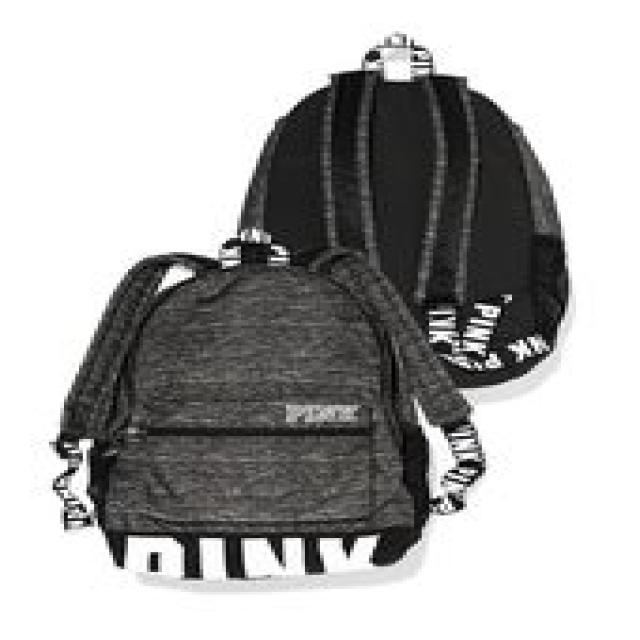backpack: (50, 231, 487, 585), (231, 32, 570, 389)
